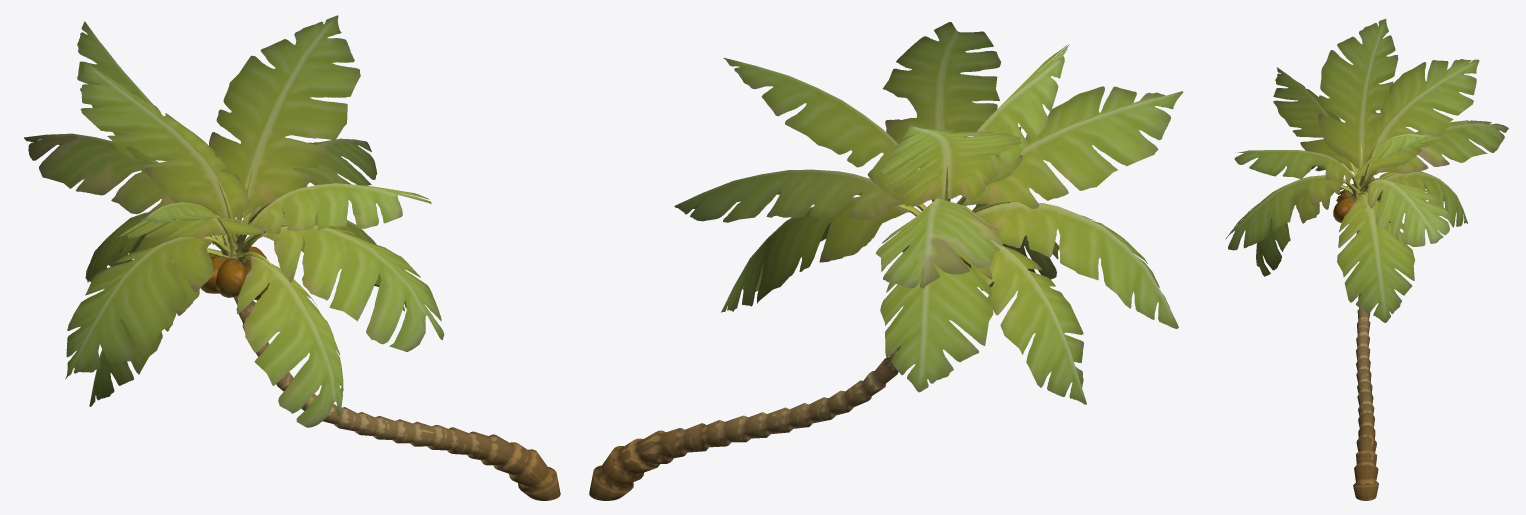
File: coconut palm 01.obj
3 views of the same model, side by side, from view 1: azimuth 30°, elevation 25°; view 2: azimuth 150°, elevation 25°; view 3: azimuth 270°, elevation 25° (orthographic). The views are drawn at different scales.
Visible parts, largest first — view 1: tree; view 2: tree; view 3: tree.
Boxes of the visible parts, bbox=[...] form: tree: bbox=[24, 15, 560, 500]; tree: bbox=[589, 22, 1183, 500]; tree: bbox=[1225, 19, 1508, 500].
Bounding box in the file's own units: 555 × 542 × 418.
